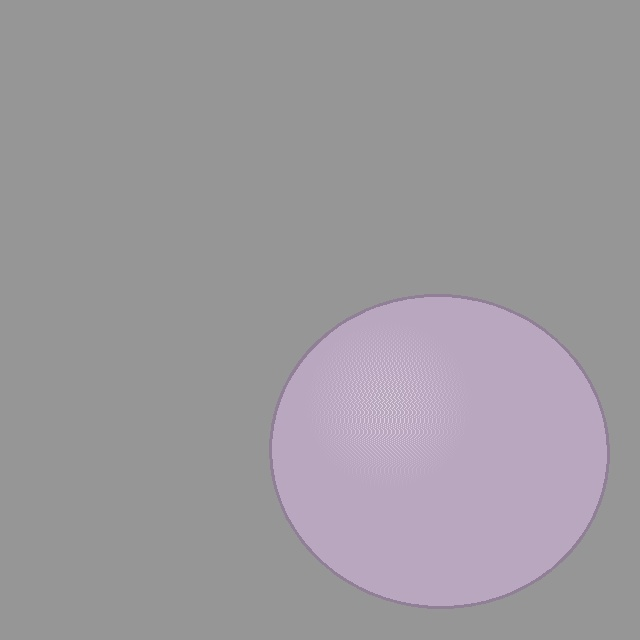lens: (270, 295, 608, 607)
